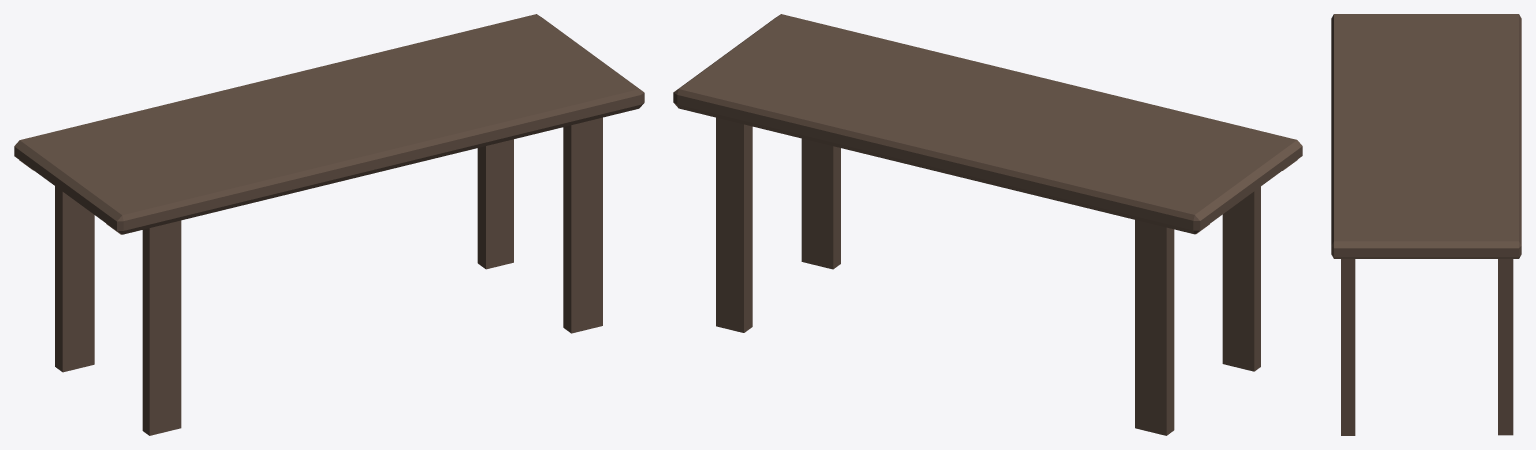
Rendered from table 1.fbx.
3 views of the same model, side by side, from view 1: azimuth 30°, elevation 25°; view 2: azimuth 150°, elevation 25°; view 3: azimuth 270°, elevation 25° (orthographic). The views are drawn at different scales.
Parts seen in each view (by area): view 1: pasted__pCube1; view 2: pasted__pCube1; view 3: pasted__pCube1.
Part boxes in pixels (box(x1,y1,x2,y2)): pasted__pCube1: box(14, 14, 644, 435); pasted__pCube1: box(673, 14, 1302, 435); pasted__pCube1: box(1331, 14, 1521, 435).
Bounding box in the file's own units: 3.84 × 1.61 × 1.33.
